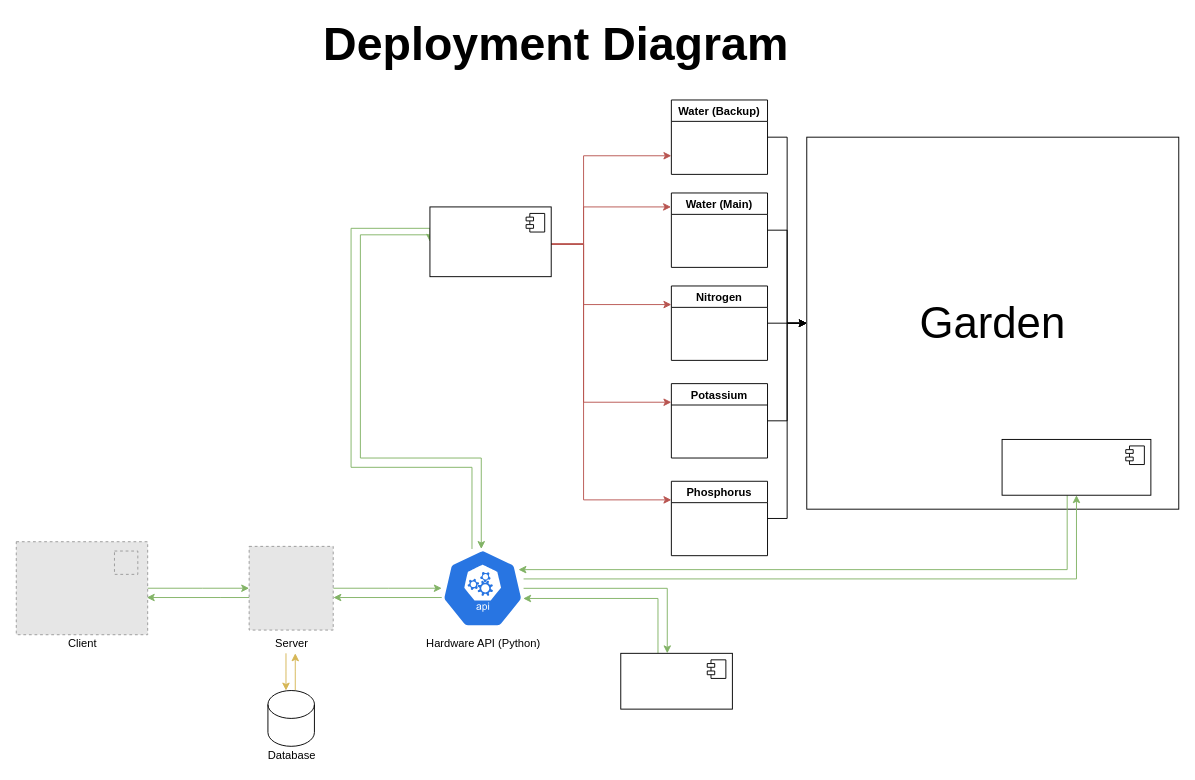
This 1195x780 diagram has some shape labels left out. Grey dashed boxes stand in for pictures. Here are the shapes that lost their labels. From the top down, the centre of each, then its label:
At (x=490, y=241): "8-Channel Relay (5v)".
At (x=1076, y=466): "Moisture Sensor".
At (x=676, y=680): "DHT11".
